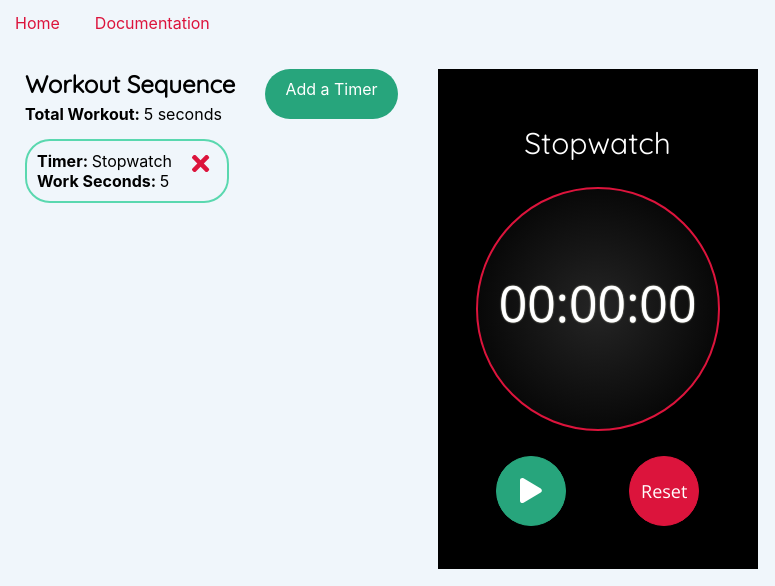
it: Workout › can remove a Timer
Click the button with class "close-btn" at (201, 164), box [192,151,209,176]
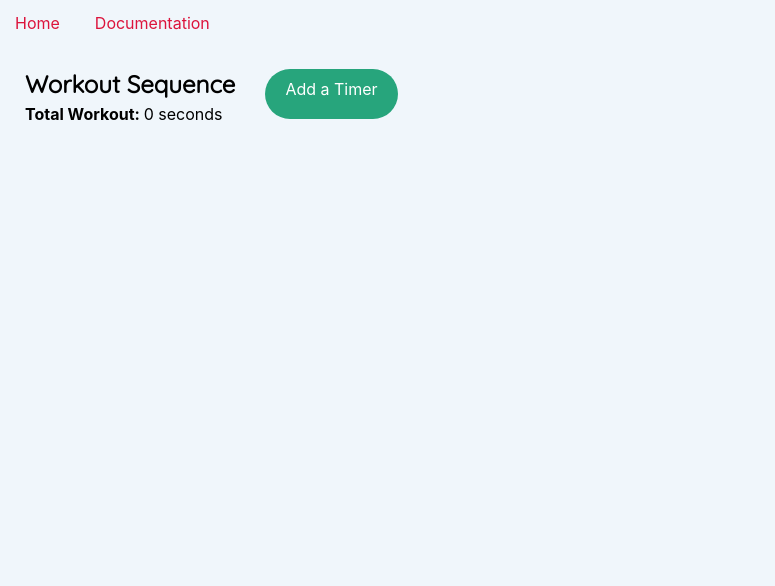
Now the element with class "seq-item-active" is gone
Now the element with class "timer-container" is gone
